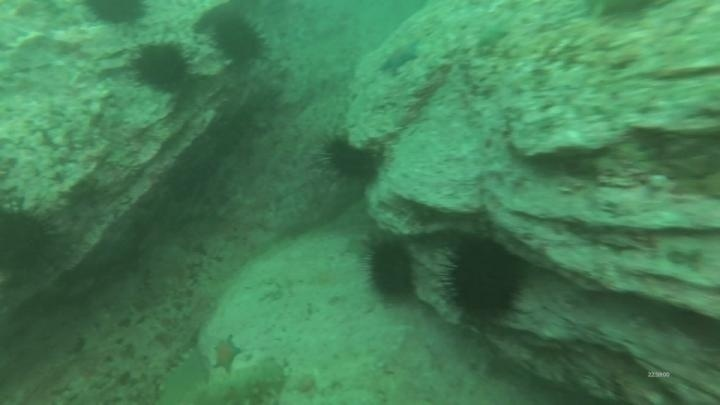echinus: (439, 233, 528, 327), (0, 200, 65, 280), (361, 235, 418, 304), (130, 39, 193, 94), (210, 14, 269, 66), (321, 133, 379, 183), (82, 1, 150, 29)
holothurian: (179, 358, 289, 405)
starfish: (377, 36, 423, 76), (208, 333, 245, 375), (472, 21, 512, 52)
